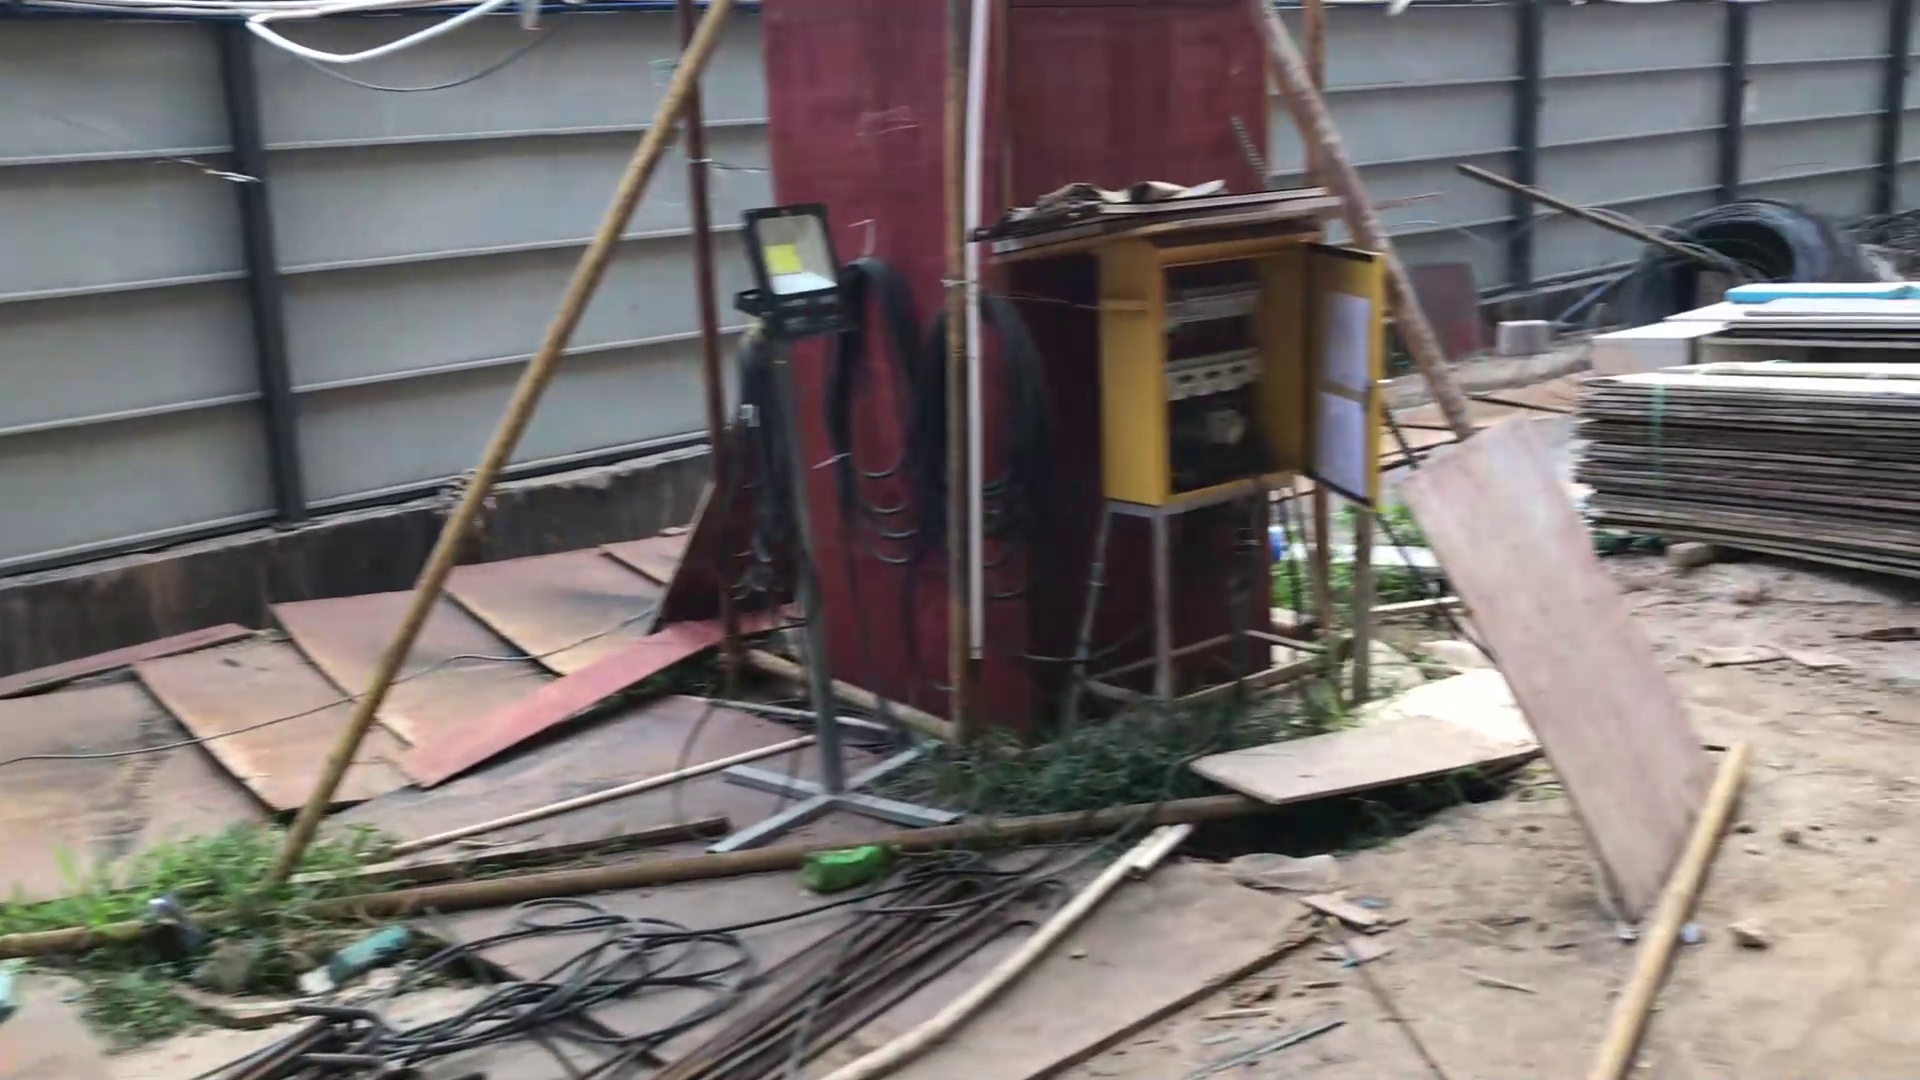board: (1578, 272, 1920, 611)
ebox: (1015, 193, 1385, 756)
